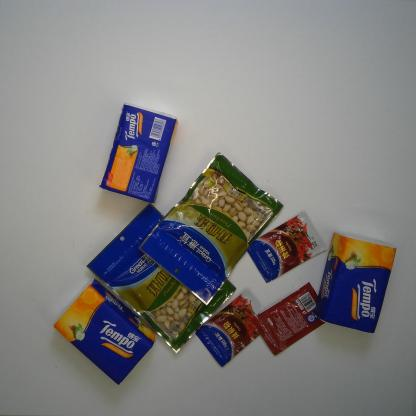Dried Fruit: (86, 202, 243, 354), (138, 151, 284, 305)
Seasoner: (247, 211, 329, 285), (252, 282, 327, 356), (193, 293, 263, 368)
Tissue: (53, 278, 156, 386), (313, 232, 397, 335), (98, 102, 179, 205)
